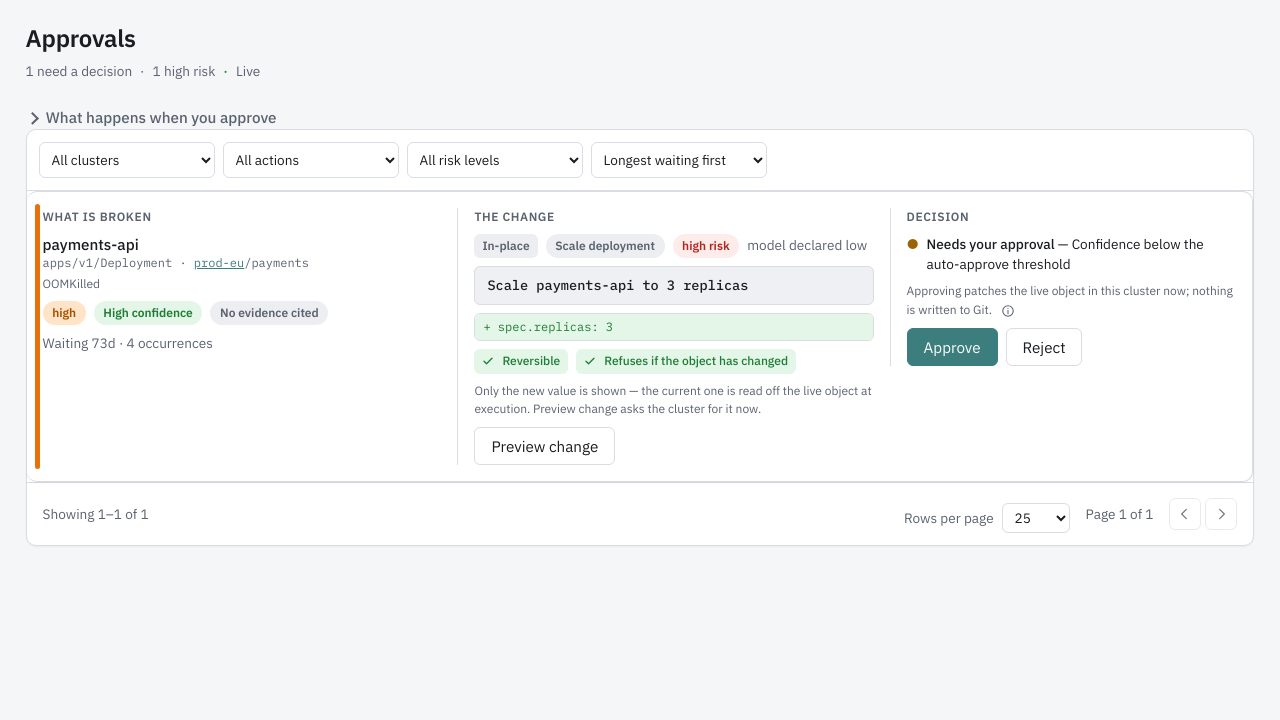
Test case: ApprovalsPage — page structure (PROJECT.md D16, B167) › counts, filters and ranks on the gate-enforced risk, not the declared one
This screenshot has width=1280, height=720.
Check: the text "1 high risk" is shown, box [152, 61, 215, 82]
// And filtering must agree with it: "high" keeps the row, "low" hides it.
Select "High risk" in the 3rd dropdown named "Filter by risk": (495, 160) [407, 142, 583, 178]
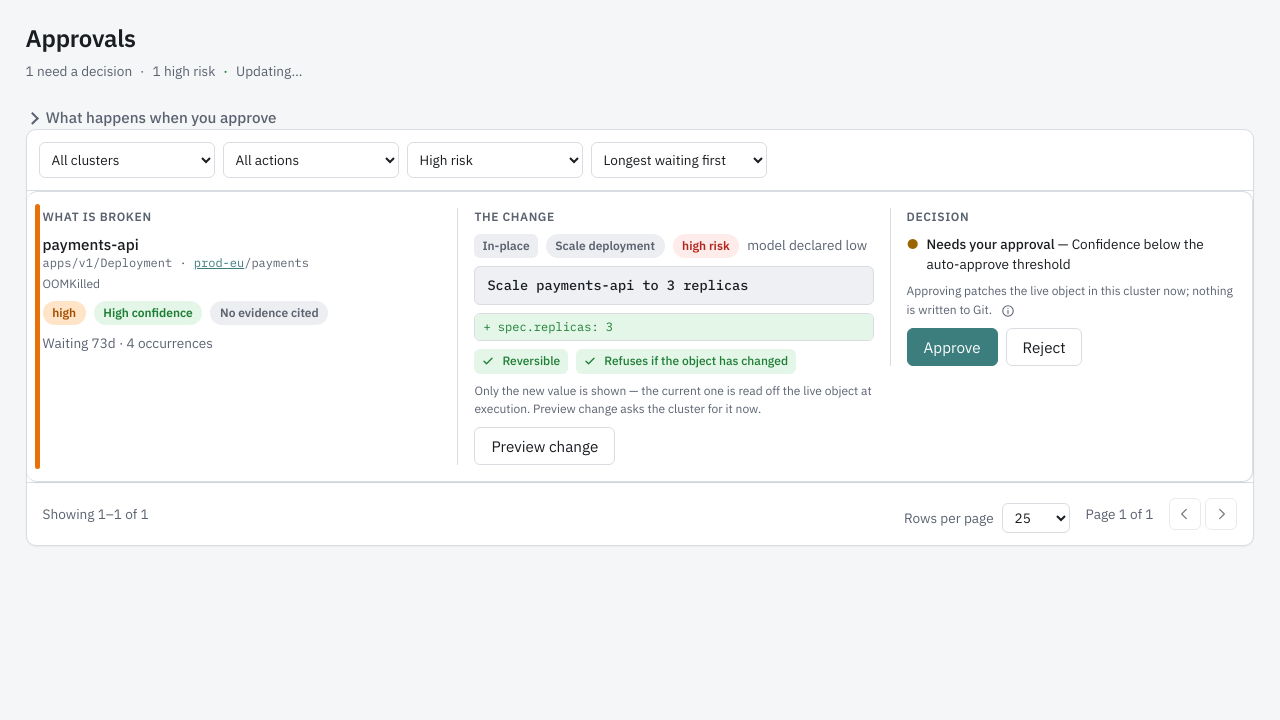
Check: the text "Showing 1–1 of 1" is shown, box [43, 504, 148, 524]
Select "Low risk" in the 3rd dropdown named "Filter by risk": (495, 160) [407, 142, 583, 178]
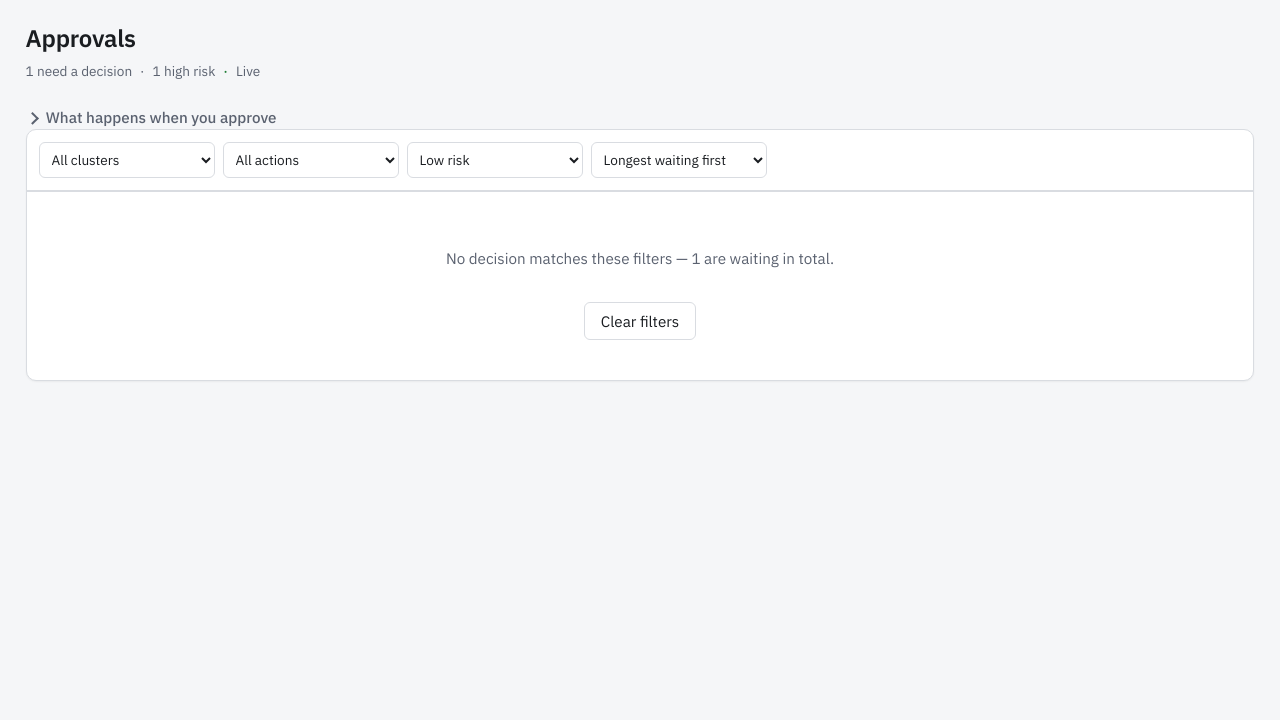
Check: the text "No decision matches these filters — 1 are waiting in total." is shown, box [446, 247, 834, 270]
